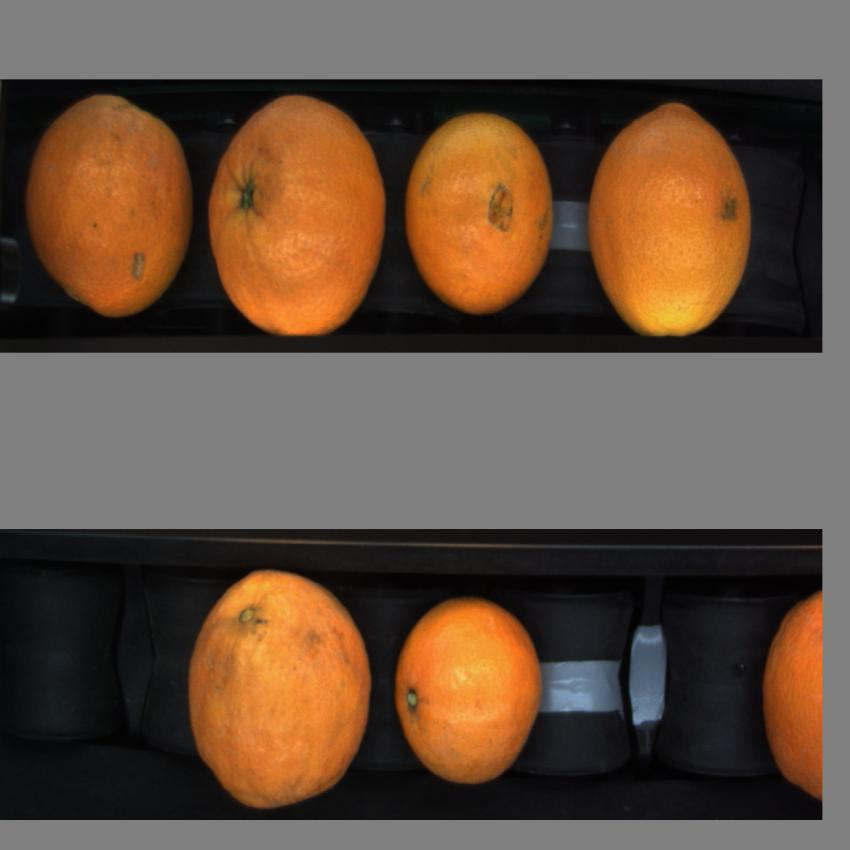Buen estado: (584, 95, 756, 338), (397, 111, 561, 322), (390, 590, 553, 786), (754, 582, 823, 809)
Mal estado: (207, 83, 390, 343), (182, 571, 378, 811), (21, 92, 200, 331)
